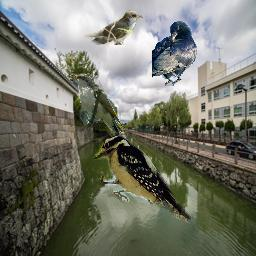Crow: (152, 21, 197, 86)
Cuckoo: (68, 73, 135, 161), (84, 10, 143, 45)
Woodpecker: (93, 131, 191, 222)
